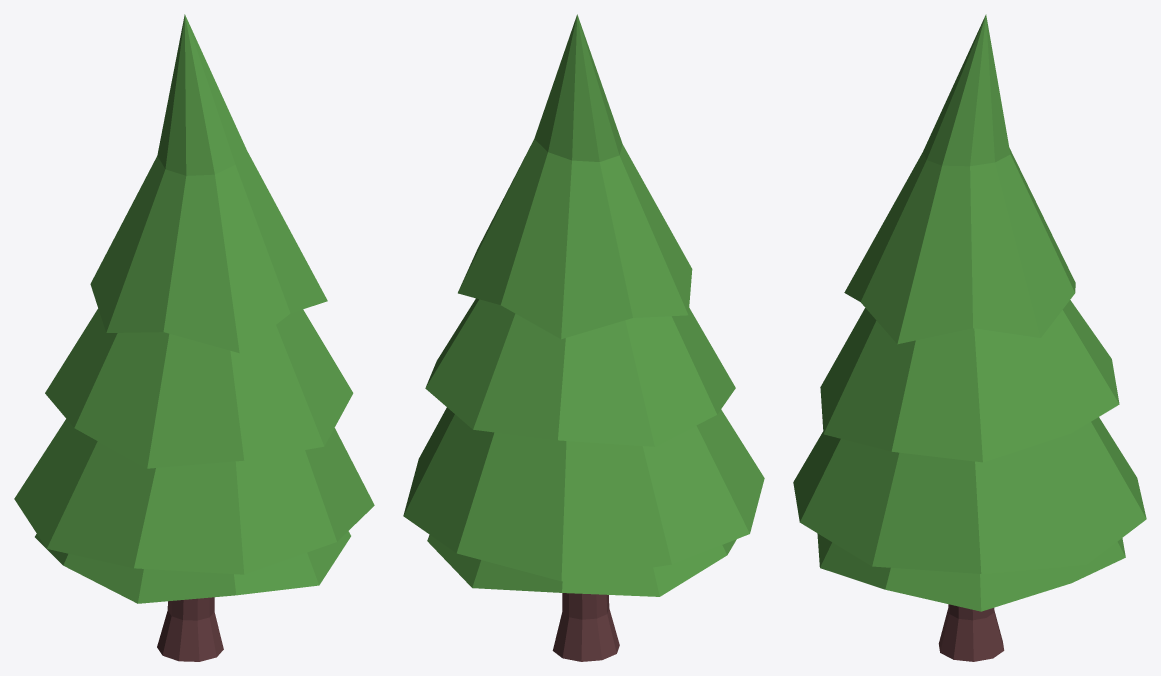
File: tree-1.glb
The picture shows the model from 3 angles, left to right: view 1: azimuth 30°, elevation 25°; view 2: azimuth 150°, elevation 25°; view 3: azimuth 270°, elevation 25°; orthographic projection.
Visible parts, largest first — view 1: pine-tree-2; view 2: pine-tree-2; view 3: pine-tree-2.
Part boxes in pixels (<box>): pine-tree-2: <box>14,14,374,661</box>; pine-tree-2: <box>403,14,764,661</box>; pine-tree-2: <box>793,14,1146,661</box>.
Size of the model in its own units: 0.1574 by 0.303 by 0.153.
1 material, 1 textured.
